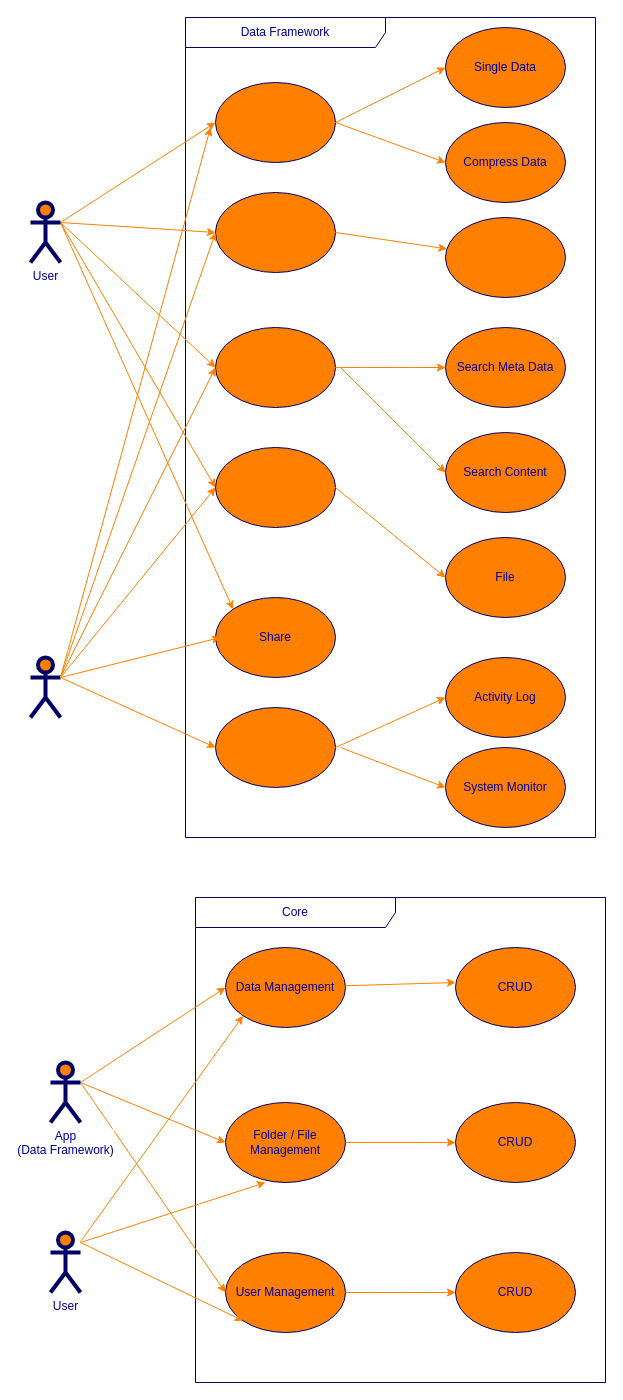
The diagram is 623 pixels wide and 1400 high, and some of its shapes have lost their labels. Each missing label, with the centre of its shape:
"Admin" goes at (45,687).
"Collect" goes at (275,232).
"Crawl Data" goes at (505,257).
"Download" goes at (275,122).
"Monitor" goes at (275,747).
"Search" goes at (275,367).
"Upload" goes at (275,487).
